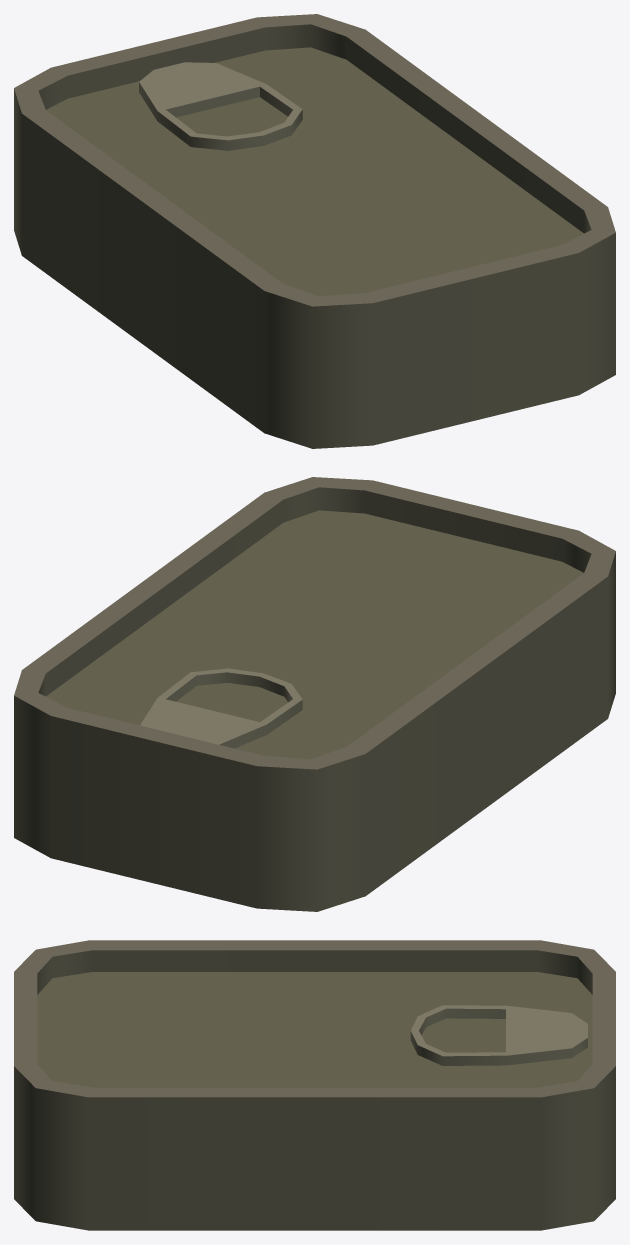
The model's file is TunaCan_Regular.fbx.
The picture shows the model from 3 angles, top to bottom: view 1: azimuth 30°, elevation 25°; view 2: azimuth 150°, elevation 25°; view 3: azimuth 270°, elevation 25°; orthographic projection. The views are drawn at different scales.
Visible parts, largest first — view 1: TunaCan_Regular; view 2: TunaCan_Regular; view 3: TunaCan_Regular.
Part boxes in pixels (left/top/right/bottom): TunaCan_Regular: left=14, top=14, right=615, bottom=448; TunaCan_Regular: left=14, top=477, right=615, bottom=911; TunaCan_Regular: left=14, top=940, right=615, bottom=1230.
Bounding box in the file's own units: 34.27 × 13.57 × 55.59.
